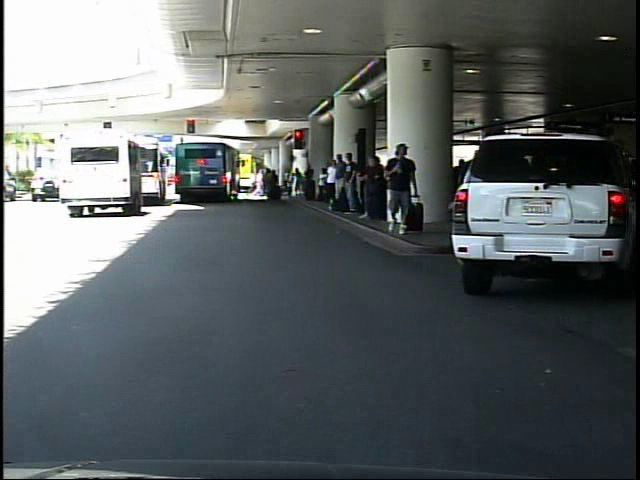person: (383, 141, 418, 238)
